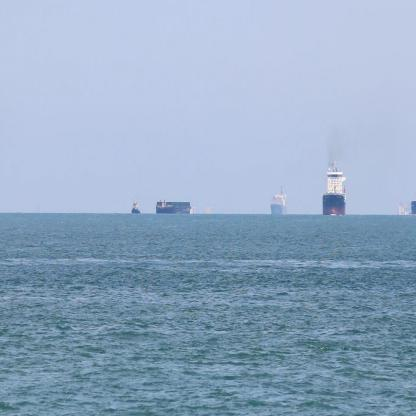Container Ship: (321, 154, 348, 217), (154, 197, 194, 217), (268, 182, 289, 216), (130, 191, 143, 216)
